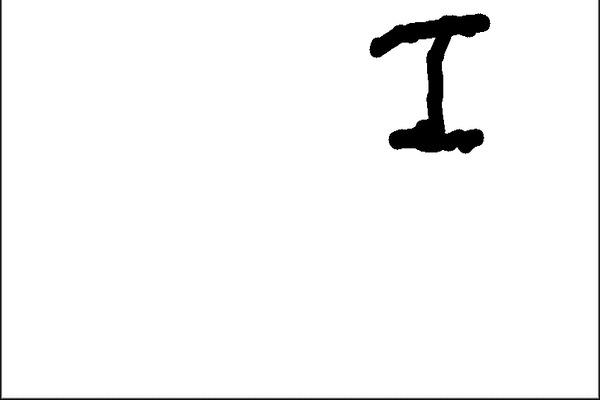i: (354, 9, 502, 163)
